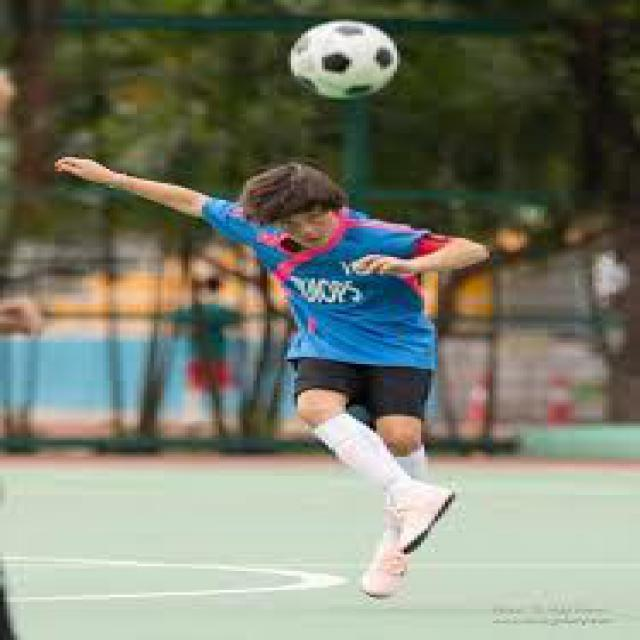ball: (286, 15, 406, 105)
